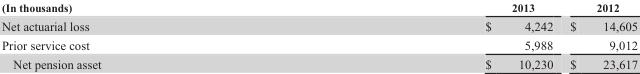table: (0, 1, 637, 70)
table column: (0, 1, 292, 70), (292, 1, 560, 70), (560, 1, 637, 70)
table column header: (0, 1, 637, 16)
table row: (0, 16, 637, 35), (0, 35, 637, 54), (0, 54, 637, 70), (0, 1, 637, 16)
